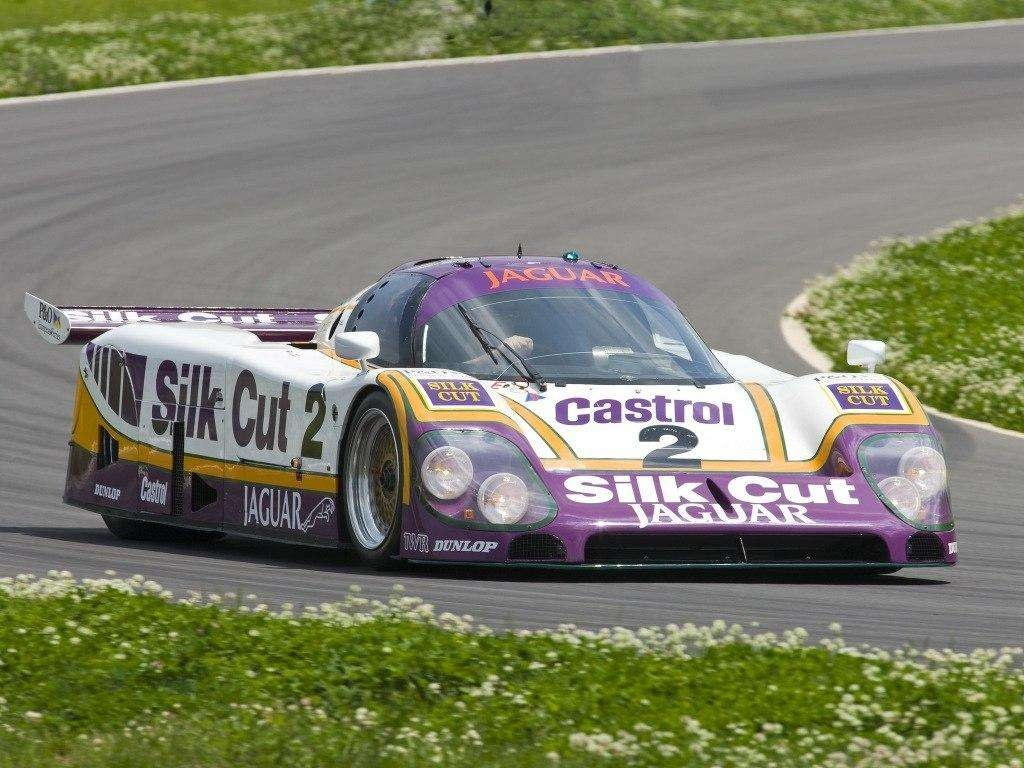racing car: (60, 237, 964, 580)
